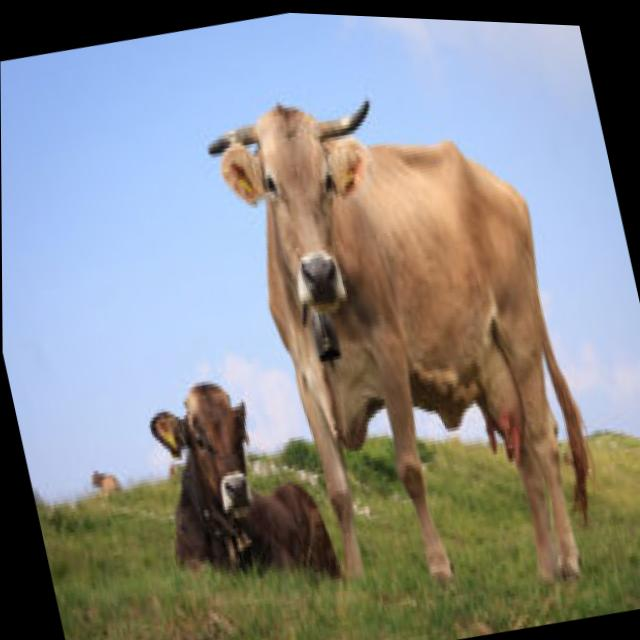cowFace: (191, 73, 417, 339)
